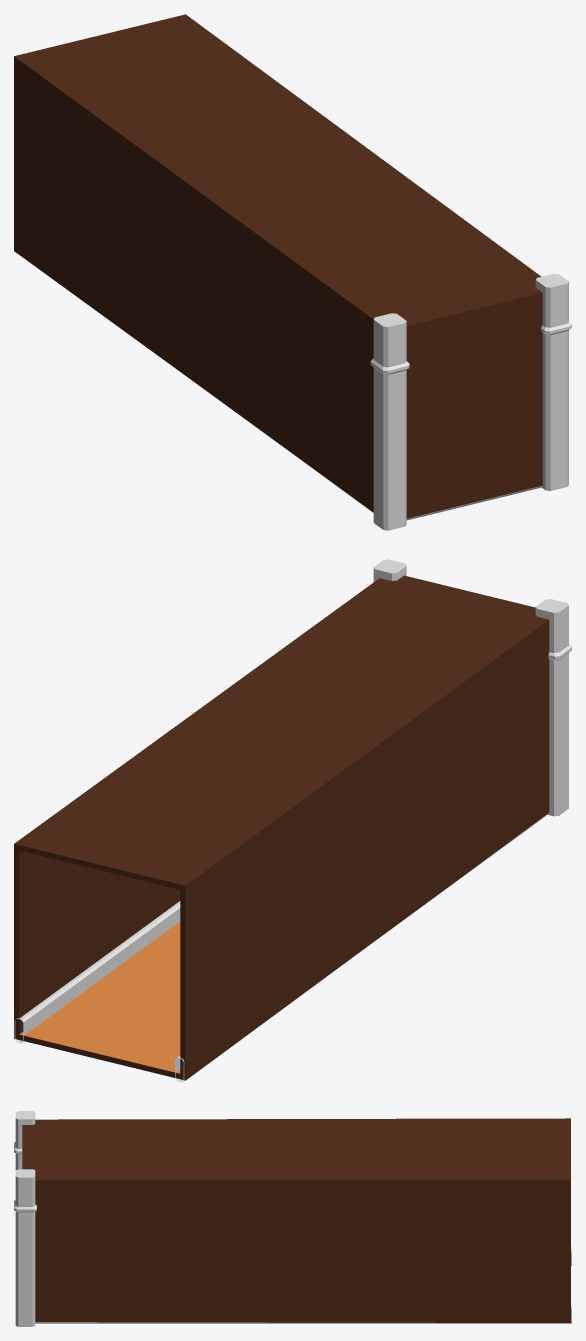
File: DeadEnd2.fbx
3 renders of one model, top to bottom at view 1: azimuth 30°, elevation 25°; view 2: azimuth 150°, elevation 25°; view 3: azimuth 270°, elevation 25°, orthographic. The views are drawn at different scales.
Parts seen in each view (by area): view 1: DeadEndU, EdgePillarU.002; view 2: DeadEndU, EdgePillarU.002, LongRailS.006; view 3: DeadEndU, EdgePillarU.002, LongRailS.006.
Part boxes in pixels (<box>): DeadEndU: <box>14,14,542,518</box>; EdgePillarU.002: <box>370,273,571,530</box>; DeadEndU: <box>14,575,549,1080</box>; EdgePillarU.002: <box>373,559,571,816</box>; LongRailS.006: <box>14,813,548,1082</box>; DeadEndU: <box>22,1118,570,1322</box>; EdgePillarU.002: <box>14,1111,36,1326</box>; LongRailS.006: <box>35,1247,571,1323</box>.
Bounding box in the file's own units: 256 × 263 × 889.
